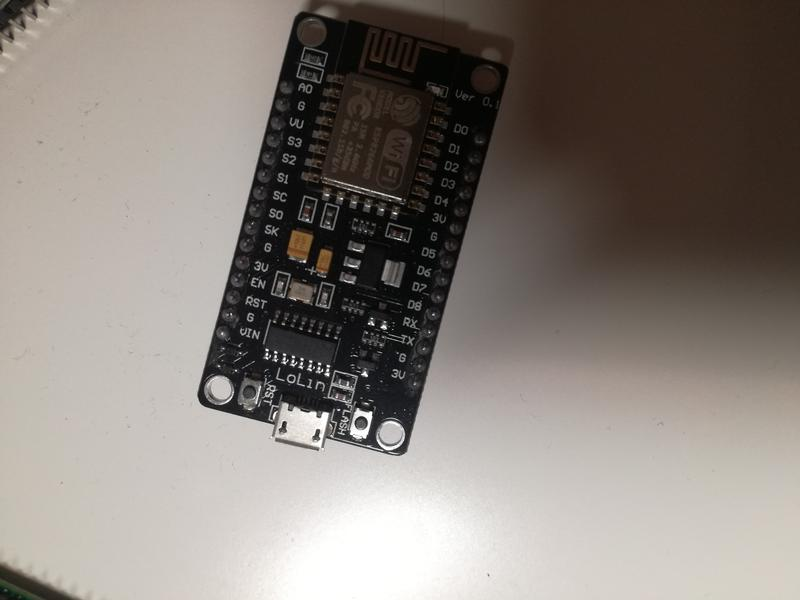ESP8266: (193, 9, 516, 461)
